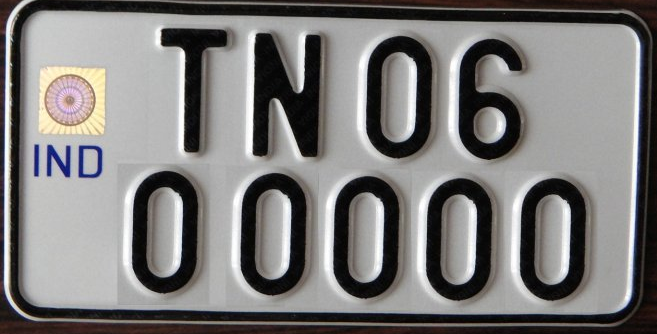0: (119, 164, 206, 299), (322, 171, 406, 301), (507, 177, 593, 302), (420, 172, 500, 304), (233, 169, 311, 298), (362, 32, 435, 159)
6: (456, 38, 526, 161)
N: (248, 31, 322, 159)
T: (156, 27, 228, 156)
